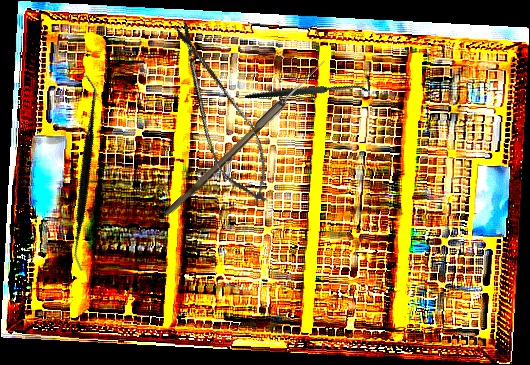Hook Surgical: (244, 33, 376, 142)
Micro Scissor: (155, 13, 285, 214)
Spatula Surgical: (1, 74, 167, 272)
Surgical Spoon: (164, 56, 328, 221)
